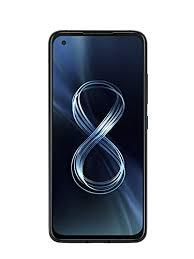Smartphone: (48, 27, 146, 245)
